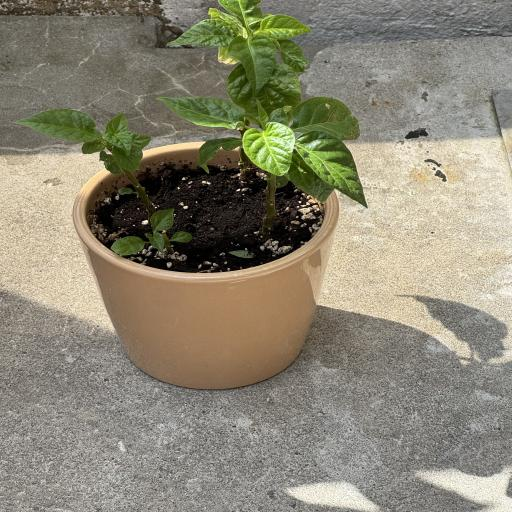Plant Pot: (70, 140, 337, 389)
